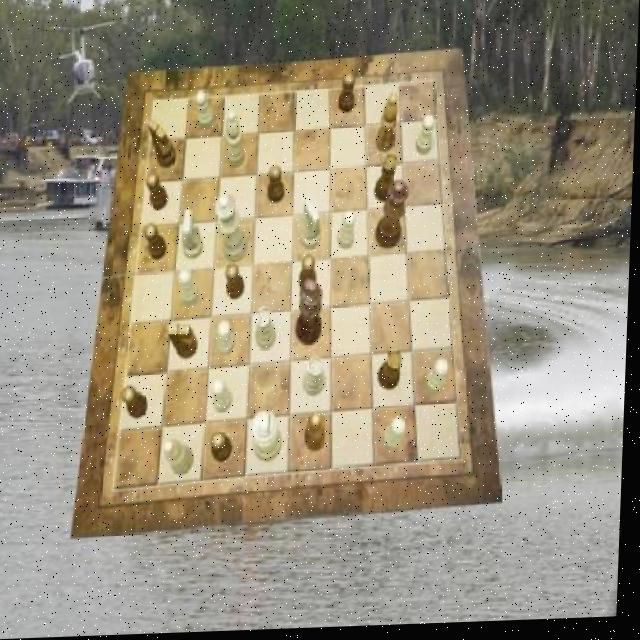bishop: (377, 96, 399, 155), (308, 416, 331, 455)
black-bishop: (298, 281, 326, 349)
black-king: (149, 121, 179, 171), (169, 323, 203, 360)
black-knight: (125, 386, 152, 421), (148, 174, 172, 212), (146, 224, 170, 261), (228, 265, 249, 302), (269, 167, 288, 205), (339, 76, 357, 116), (213, 433, 236, 464), (302, 258, 320, 295)
black-pawn: (377, 183, 412, 253)
black-queen: (375, 158, 399, 206), (380, 352, 406, 393)
black-rook: (226, 111, 248, 170), (166, 440, 199, 477)
white-bishop: (255, 411, 288, 464)
white-king: (301, 201, 324, 251), (183, 211, 205, 262)
white-knight: (196, 92, 217, 133), (428, 362, 452, 397), (180, 269, 202, 307), (386, 420, 410, 454), (214, 381, 236, 416), (340, 213, 359, 252), (417, 118, 435, 159), (220, 322, 239, 359)
white-pawn: (217, 195, 253, 265)
white-queen: (306, 358, 330, 398), (257, 308, 279, 351)
